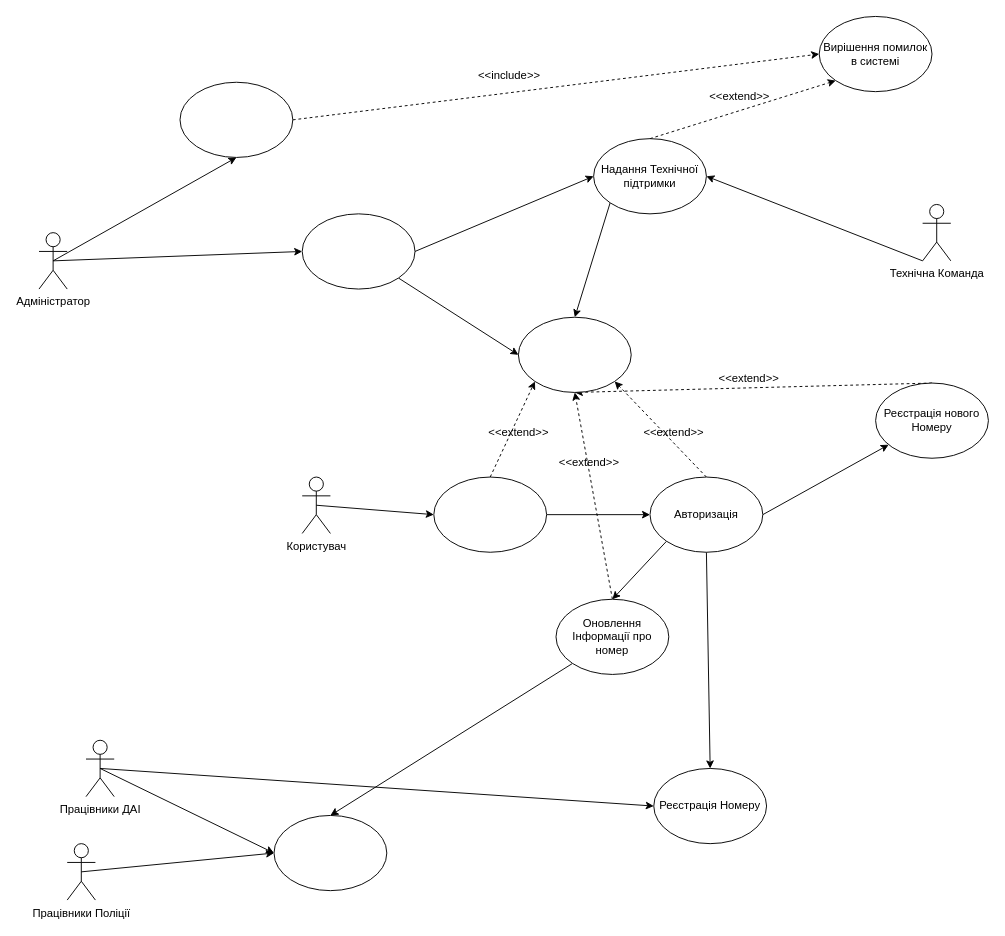
Some shapes in this 1005 by 936 pixel diagram are drawn without their labels. The centre of each missing label's shape, as x and y in pixels:
"Адміністрування системи" goes at point (358, 251).
"Вхід у Веб Застосунок" goes at point (490, 514).
"Надсилання звітності про технічні проблеми до Тех Команди" goes at point (236, 119).
"Перегляд Інформації про номер" goes at point (330, 853).
"Тех проблеми" goes at point (574, 354).
